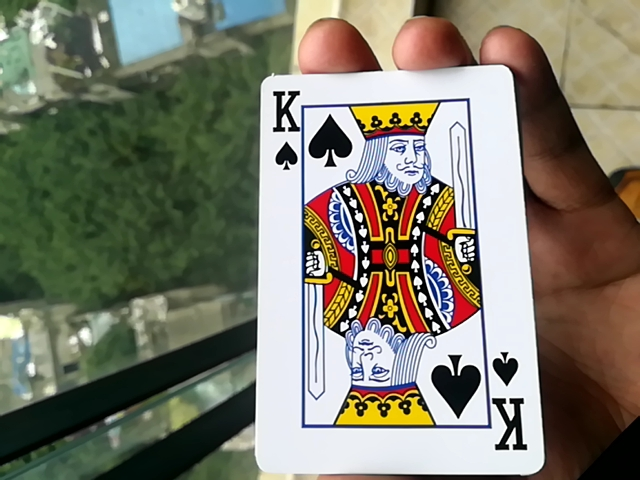ht k: (249, 65, 534, 472)
